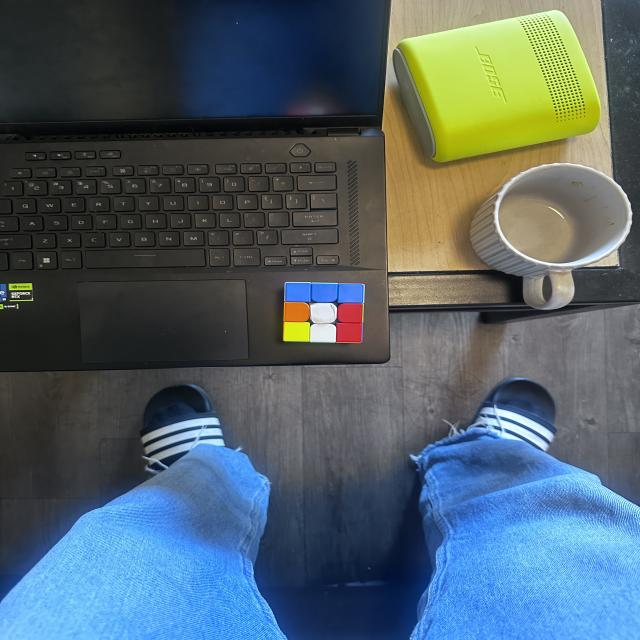sticker: (309, 322, 338, 346), (282, 321, 311, 343), (308, 302, 338, 323), (284, 301, 312, 323), (284, 282, 311, 304), (336, 303, 364, 324), (336, 322, 364, 343), (338, 283, 365, 303), (314, 283, 336, 301)
